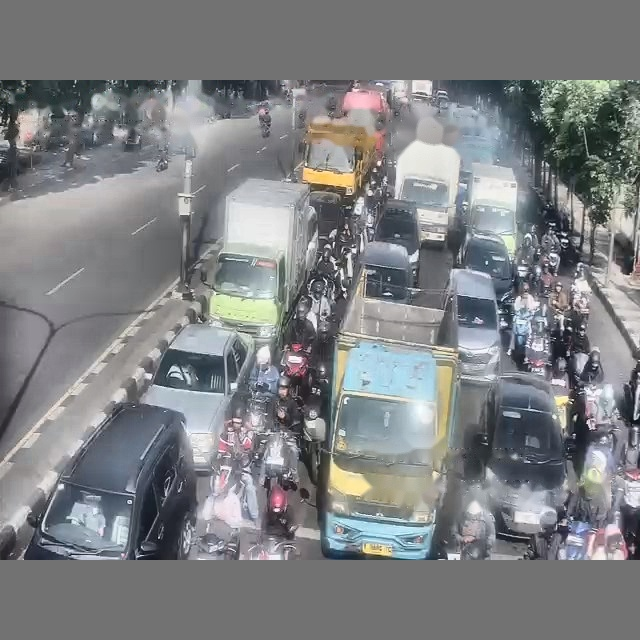Mobil: (24, 403, 196, 559), (143, 324, 254, 472), (478, 373, 567, 536), (443, 269, 500, 380), (374, 199, 419, 286), (456, 232, 514, 299)
Motor: (282, 344, 309, 396)
Truk: (318, 288, 459, 559), (207, 178, 316, 347), (395, 140, 460, 245), (302, 117, 375, 201), (468, 162, 517, 256), (411, 80, 433, 101)
